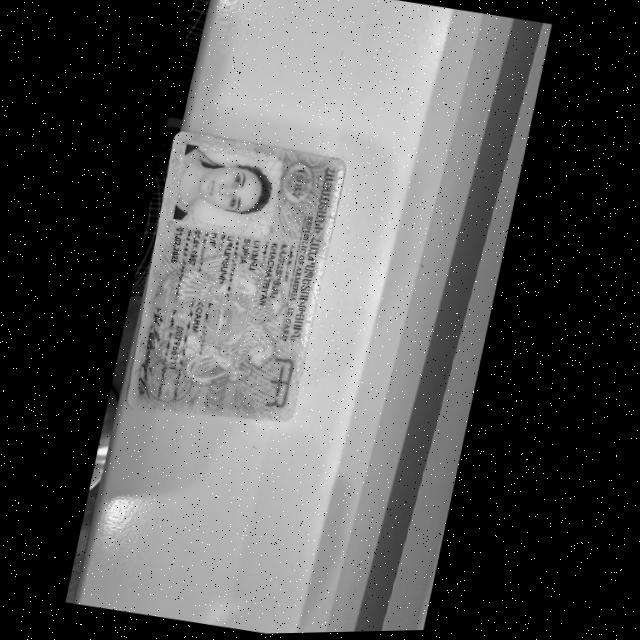card: (128, 133, 345, 420)
